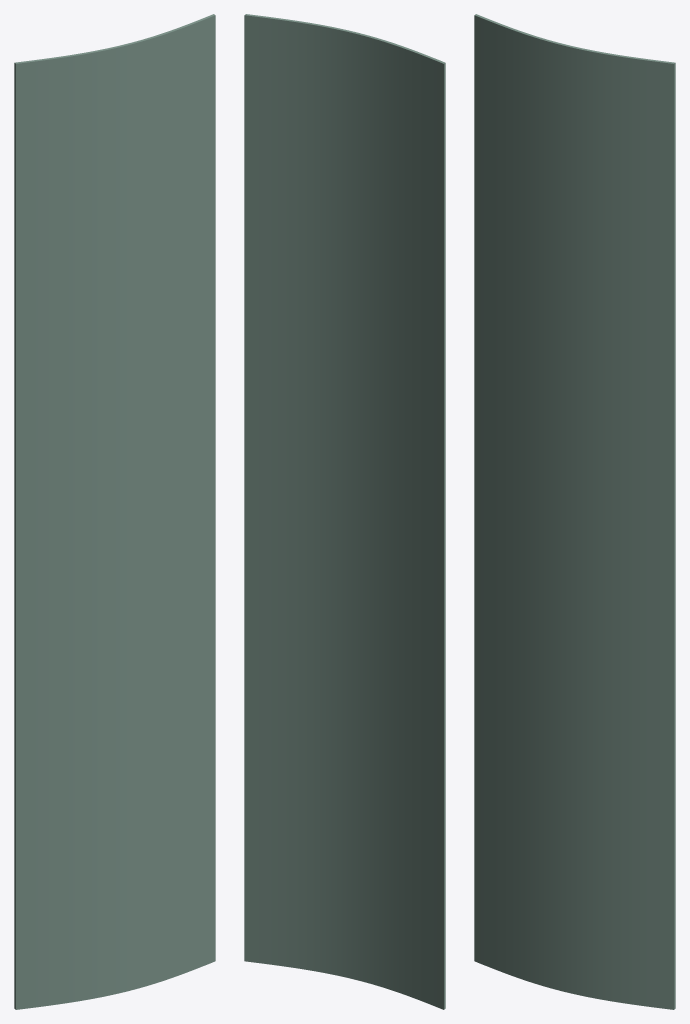
Rendered from grandstand_roof.obj.
The picture shows the model from 3 angles, left to right: view 1: azimuth 30°, elevation 25°; view 2: azimuth 150°, elevation 25°; view 3: azimuth 330°, elevation 25°; orthographic projection.
Parts seen in each view (by area): view 1: drone_cju_track_stadium_grandstand_roof; view 2: drone_cju_track_stadium_grandstand_roof; view 3: drone_cju_track_stadium_grandstand_roof.
Boxes of the visible parts, <box> form: drone_cju_track_stadium_grandstand_roof: <box>14,14,215,1009</box>; drone_cju_track_stadium_grandstand_roof: <box>244,14,445,1009</box>; drone_cju_track_stadium_grandstand_roof: <box>474,14,675,1009</box>.
Size of the model in its own units: 15 by 68 by 1.37.
